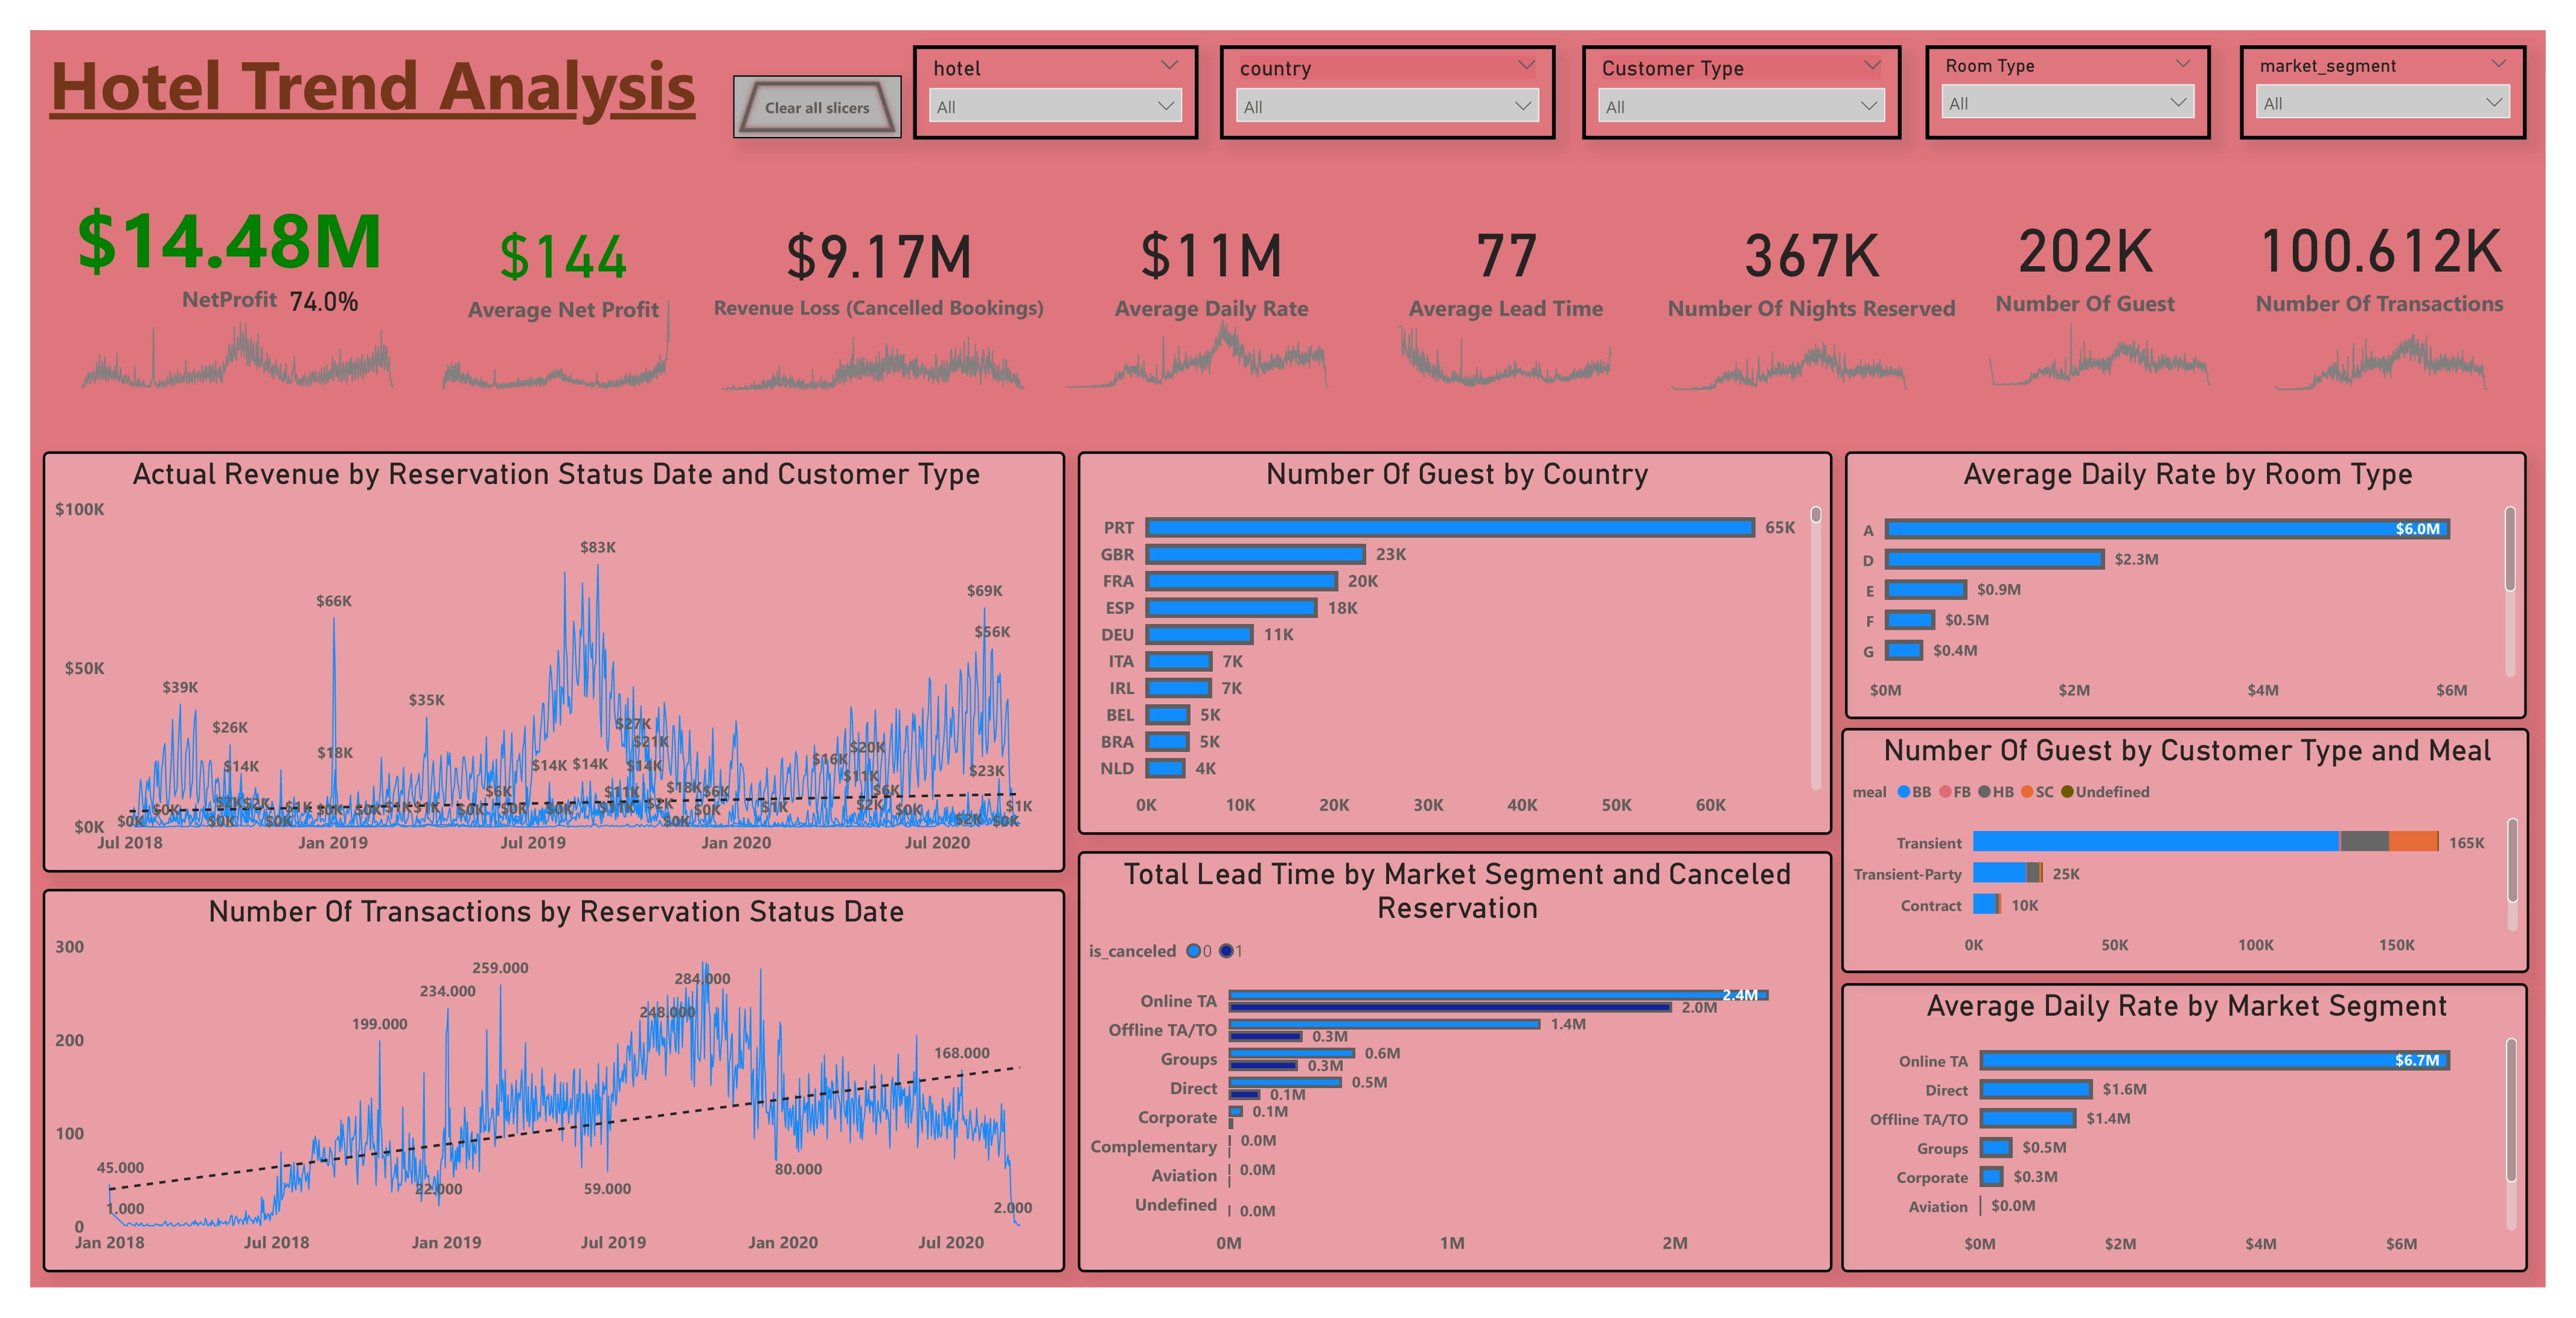

Layout of this report page (visuals, bound fields, positions):
{"tool":"powerbi","page":{"name":"Page 1","canvas":[2000,1000],"ordinal":0},"visuals":[{"type":"card","fields":{"Values":["Measure Brian.Net Profit"]},"box":[11.3,90.6,294.3,167.9],"z":0},{"type":"textbox","box":[10.5,0,558,90.7],"z":1000},{"type":"card","fields":{"Values":["Measures (2).Average Daily Rate"]},"box":[832,130.4,215.2,109.7],"z":2000},{"type":"card","fields":{"Values":["Measures (2).Number Of Guest"]},"box":[1519.1,120,229.7,122.1],"z":3000},{"type":"card","fields":{"Values":["Measures (2).Number Of Transactions"]},"box":[1748.9,122.1,238,118],"z":4000},{"type":"clusteredBarChart","title":"Total Lead Time by Market Segment and Canceled Reservation","fields":{"Category":["Hotel Data.market_segment2"],"Y":["Measures (2).Total Lead Time"],"Series":["Hotel Data.is_canceled"]},"box":[833,652.5,600,335],"z":5000},{"type":"slicer","fields":{"Values":["Hotel Data.customer_type"]},"box":[1233.5,12.4,254.6,74.5],"z":6000},{"type":"card","fields":{"Values":["Measure Brian.Average Lead Time."]},"box":[1080.4,130.4,186.3,109.7],"z":7000},{"type":"lineChart","title":"Actual Revenue by Reservation Status Date and Customer Type","fields":{"Category":["Hotel Data.reservation_status_date"],"Series":["Hotel Data.customer_type"],"Y":["Measure Brian.Revenue"]},"box":[10,335,812.5,335],"z":8000},{"type":"clusteredBarChart","title":"Average Daily Rate by Market Segment","fields":{"Category":["Hotel Data.market_segment"],"Y":["Measures (2).Average Daily Rate"]},"box":[1440,757.5,546,230],"z":9000},{"type":"clusteredBarChart","title":"Average Daily Rate by Room Type","fields":{"Category":["Hotel Data.reserved_room_type"],"Y":["Measures (2).Average Daily Rate"]},"box":[1442.5,335,542.5,212.5],"z":10000},{"type":"clusteredBarChart","title":"Number Of Guest by Country","fields":{"Category":["Hotel Data.country"],"Y":["Measures (2).Number Of Guest"]},"box":[833,335,600,305],"z":11000},{"type":"barChart","title":"Number Of Guest by Customer Type and Meal","fields":{"Category":["Hotel Data.customer_type"],"Series":["Hotel Data.meal"],"Y":["Measures (2).Number Of Guest"]},"box":[1440,555,547,195],"z":12000},{"type":"lineChart","title":"Number Of Transactions by Reservation Status Date","fields":{"Category":["Hotel Data.reservation_status_date"],"Y":["Measures (2).Number Of Transactions"]},"box":[10,682.5,812.5,305],"z":13000},{"type":"lineChart","fields":{"Category":["Hotel Data.reservation_status_date"],"Y":["Measure Brian.Net Profit"]},"box":[25.5,212.8,278.7,78.7],"z":14000},{"type":"lineChart","fields":{"Category":["Hotel Data.reservation_status_date"],"Y":["Measures (2).Average Daily Rate"]},"box":[809.2,209,238,80.7],"z":15000},{"type":"lineChart","fields":{"Category":["Hotel Data.reservation_status_date"],"Y":["Measure Brian.Average Lead Time."]},"box":[1073.3,211.7,198.3,80],"z":16000},{"type":"slicer","fields":{"Values":["Hotel Data.country"]},"box":[945.8,12.4,267,74.5],"z":17000},{"type":"slicer","fields":{"Values":["Hotel Data.reserved_room_type"]},"box":[1506.7,12.4,227.7,74.5],"z":18000},{"type":"card","fields":{"Values":["Measure Brian.Average_Net_Profit"]},"box":[326,126,196,120],"z":19000},{"type":"lineChart","fields":{"Category":["Hotel Data.reservation_status_date"]},"box":[306,202,216,76],"z":20000},{"type":"slicer","fields":{"Values":["Hotel Data.hotel"]},"box":[701.6,12.4,227.7,74.5],"z":21000},{"type":"slicer","fields":{"Values":["Hotel Data.market_segment"]},"box":[1757.2,12.4,227.7,74.5],"z":22000},{"type":"card","fields":{"Values":["Measures (2).Number Nights Reserved"]},"box":[1290,125,252.5,120],"z":23000},{"type":"card","fields":{"Values":["Measure Brian.Revenue Loss (Bookings Cancelled)"]},"box":[535,130,280,110],"z":24000},{"type":"lineChart","fields":{"Y":["Measure Brian.Revenue Loss (Bookings Cancelled)"],"Category":["Hotel Data.reservation_status_date"]},"box":[535,225,270,66.7],"z":25000},{"type":"lineChart","fields":{"Category":["Hotel Data.reservation_status_date"],"Y":["Measures (2).Number Nights Reserved"]},"box":[1290,223.3,216.7,68.3],"z":26000},{"type":"lineChart","fields":{"Category":["Hotel Data.reservation_status_date"],"Y":["Measures (2).Number Of Guest"]},"box":[1543.3,216.7,205,71.7],"z":27000},{"type":"lineChart","fields":{"Category":["Hotel Data.reservation_status_date"],"Y":["Measures (2).Number Of Transactions"]},"box":[1770,225,198.3,66.7],"z":28000},{"type":"actionButton","box":[559,36,134,50],"z":29000},{"type":"lineChart","fields":{"Category":["Hotel Data.reservation_status_date"],"Y":["Measure Brian.Average Net Profit."]},"box":[313.3,195,210,96.7],"z":30000},{"type":"card","fields":{"Values":["Measure Brian.Net Profit margin"]},"box":[198,188,71,54],"z":31000}]}

Visuals, with their boxes on the page's 2000x1000 design canvas (x1, y1, x2, y2). These are canvas units, not pixel positions in the 2576x1318 screenshot, which may show the page scaled, cropped or inside an application window:
card - Measure Brian.Net Profit: box=[11, 91, 306, 258]
textbox: box=[10, 0, 568, 91]
card - Measures (2).Average Daily Rate: box=[832, 130, 1047, 240]
card - Measures (2).Number Of Guest: box=[1519, 120, 1749, 242]
card - Measures (2).Number Of Transactions: box=[1749, 122, 1987, 240]
"Total Lead Time by Market Segment and Canceled Reservation" clusteredBarChart: box=[833, 652, 1433, 988]
slicer - Hotel Data.customer_type: box=[1234, 12, 1488, 87]
card - Measure Brian.Average Lead Time.: box=[1080, 130, 1267, 240]
"Actual Revenue by Reservation Status Date and Customer Type" lineChart: box=[10, 335, 822, 670]
"Average Daily Rate by Market Segment" clusteredBarChart: box=[1440, 758, 1986, 988]
"Average Daily Rate by Room Type" clusteredBarChart: box=[1442, 335, 1985, 548]
"Number Of Guest by Country" clusteredBarChart: box=[833, 335, 1433, 640]
"Number Of Guest by Customer Type and Meal" barChart: box=[1440, 555, 1987, 750]
"Number Of Transactions by Reservation Status Date" lineChart: box=[10, 682, 822, 988]
lineChart - Hotel Data.reservation_status_date x Measure Brian.Net Profit: box=[26, 213, 304, 292]
lineChart - Hotel Data.reservation_status_date x Measures (2).Average Daily Rate: box=[809, 209, 1047, 290]
lineChart - Hotel Data.reservation_status_date x Measure Brian.Average Lead Time.: box=[1073, 212, 1272, 292]
slicer - Hotel Data.country: box=[946, 12, 1213, 87]
slicer - Hotel Data.reserved_room_type: box=[1507, 12, 1734, 87]
card - Measure Brian.Average_Net_Profit: box=[326, 126, 522, 246]
lineChart - Hotel Data.reservation_status_date: box=[306, 202, 522, 278]
slicer - Hotel Data.hotel: box=[702, 12, 929, 87]
slicer - Hotel Data.market_segment: box=[1757, 12, 1985, 87]
card - Measures (2).Number Nights Reserved: box=[1290, 125, 1542, 245]
card - Measure Brian.Revenue Loss (Bookings Cancelled): box=[535, 130, 815, 240]
lineChart - Measure Brian.Revenue Loss (Bookings Cancelled) x Hotel Data.reservation_status_date: box=[535, 225, 805, 292]
lineChart - Hotel Data.reservation_status_date x Measures (2).Number Nights Reserved: box=[1290, 223, 1507, 292]
lineChart - Hotel Data.reservation_status_date x Measures (2).Number Of Guest: box=[1543, 217, 1748, 288]
lineChart - Hotel Data.reservation_status_date x Measures (2).Number Of Transactions: box=[1770, 225, 1968, 292]
actionButton: box=[559, 36, 693, 86]
lineChart - Hotel Data.reservation_status_date x Measure Brian.Average Net Profit.: box=[313, 195, 523, 292]
card - Measure Brian.Net Profit margin: box=[198, 188, 269, 242]
